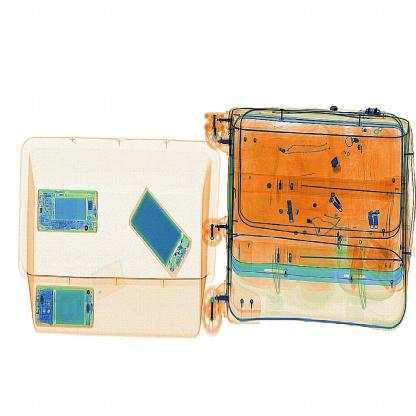wrench: (324, 146, 346, 176)
